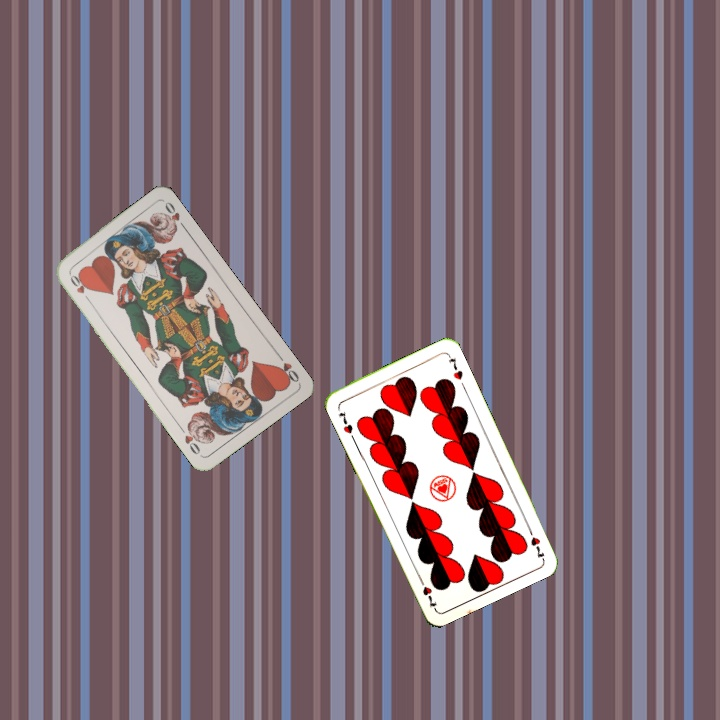H7: (524, 523, 547, 561), (334, 407, 355, 436)
HO: (273, 350, 302, 386), (65, 269, 93, 305)
